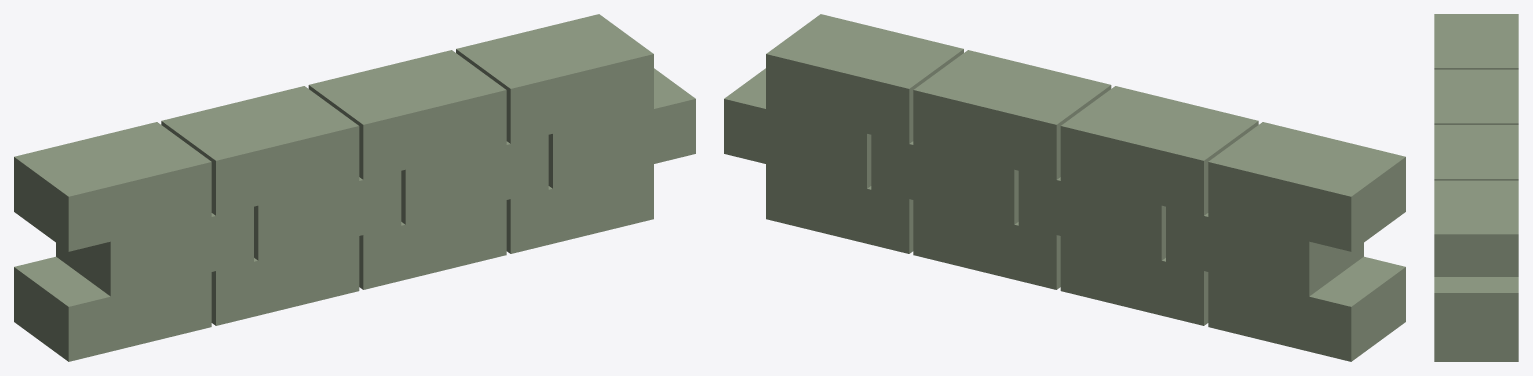
The model's file is zombie-quarantine-streets-sandbag-wall-6c08585c__19333.glb.
3 views of the same model, side by side, from view 1: azimuth 30°, elevation 25°; view 2: azimuth 150°, elevation 25°; view 3: azimuth 270°, elevation 25° (orthographic). The views are drawn at different scales.
Visible parts, largest first — view 1: sandbag-wall; view 2: sandbag-wall; view 3: sandbag-wall.
Part boxes in pixels (left/top/right/bottom): sandbag-wall: left=14, top=14, right=695, bottom=361; sandbag-wall: left=724, top=14, right=1405, bottom=361; sandbag-wall: left=1434, top=14, right=1518, bottom=361.
Bounding box in the file's own units: 2.98 × 0.7498 × 0.45.
